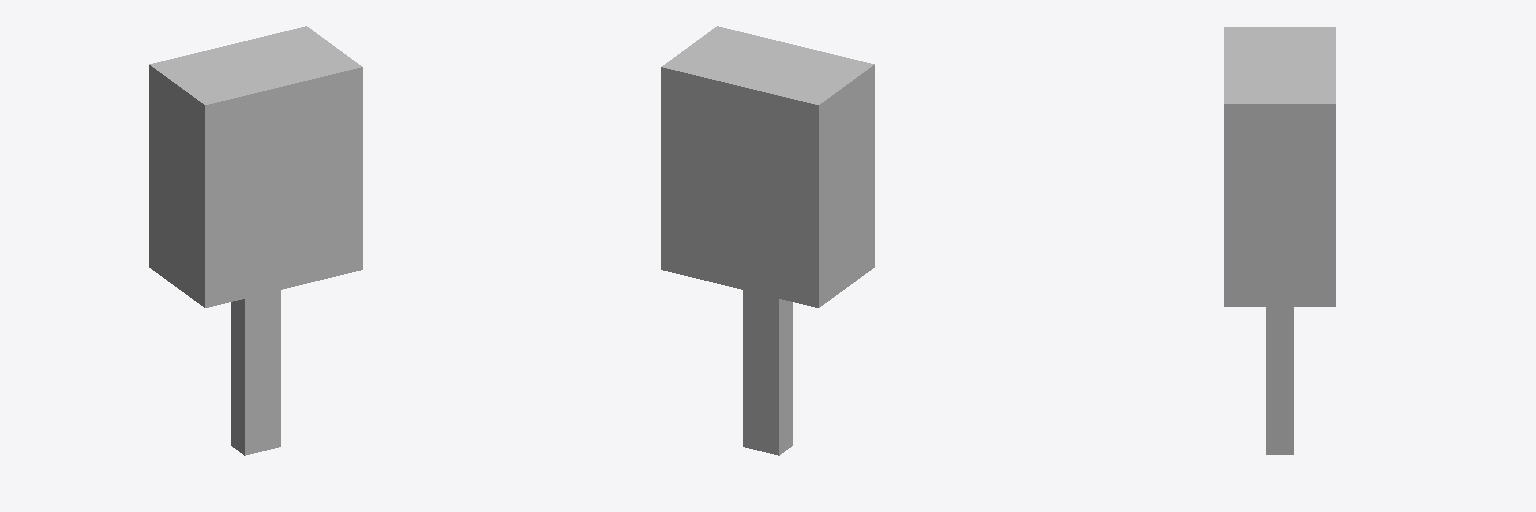
File: tree_1.obj
The picture shows the model from 3 angles: view 1: azimuth 30°, elevation 25°; view 2: azimuth 150°, elevation 25°; view 3: azimuth 270°, elevation 25°; orthographic projection.
Visible parts, largest first — view 1: object 1; view 2: object 1; view 3: object 1.
Boxes of the visible parts, <box> form: object 1: <box>149,26,362,455</box>; object 1: <box>661,26,874,455</box>; object 1: <box>1224,27,1335,454</box>.
Bounding box in the file's own units: 1.3 × 3 × 0.8.